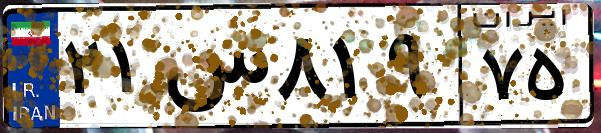1: (330, 28, 385, 110), (110, 28, 158, 98)
2: (57, 26, 110, 100)
5: (525, 38, 570, 115)
7: (475, 38, 525, 113)
8: (270, 28, 330, 110)
9: (385, 28, 445, 110)
س: (158, 20, 270, 120)
